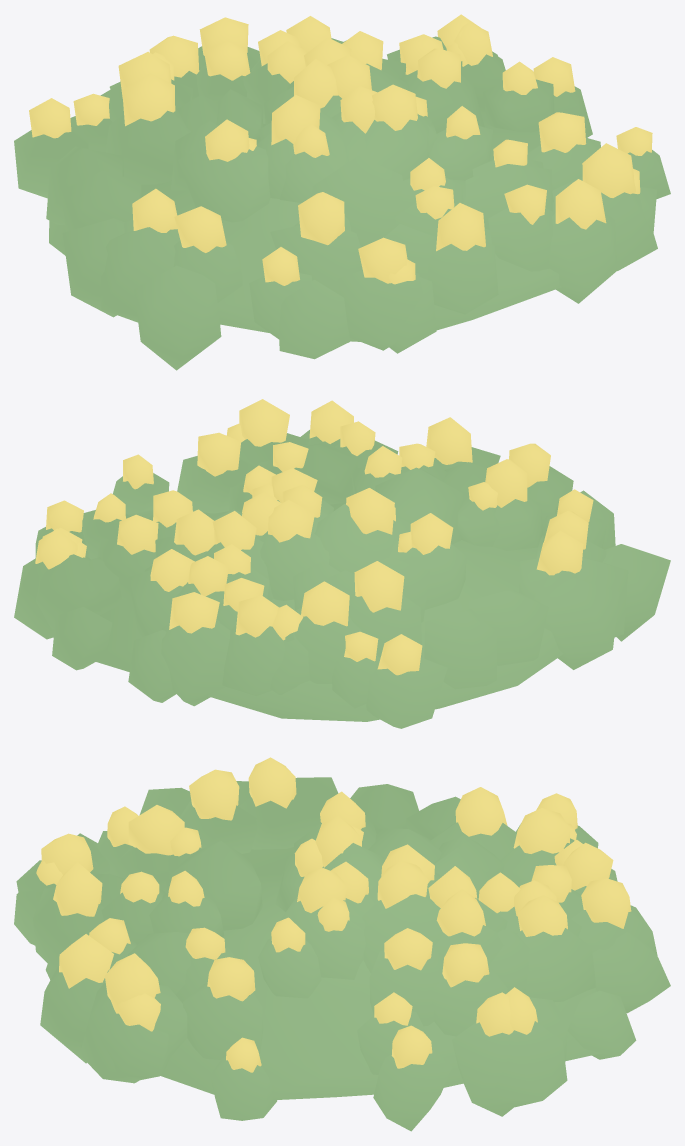
File: Blender_Heather_3.glb
3 renders of one model, top to bottom at view 1: azimuth 30°, elevation 25°; view 2: azimuth 150°, elevation 25°; view 3: azimuth 270°, elevation 25°, orthographic. The views are drawn at different scales.
Parts seen in each view (by area): view 1: Blender_Heather_3; view 2: Blender_Heather_3; view 3: Blender_Heather_3.
Boxes of the visible parts, x1=… form: Blender_Heather_3: x1=14, y1=14, x2=670, y2=370; Blender_Heather_3: x1=14, y1=399, x2=670, y2=728; Blender_Heather_3: x1=14, y1=757, x2=670, y2=1131.
Size of the model in its own units: 2.1 by 0.6167 by 2.04.
